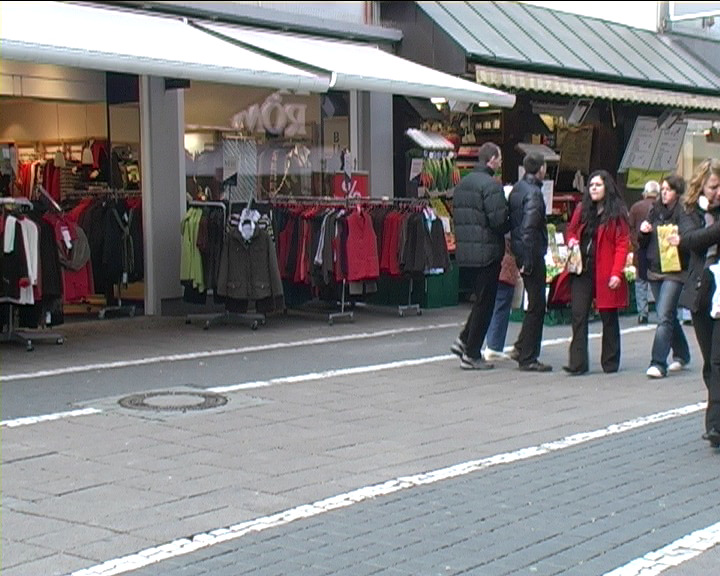undeflect: (578, 169, 629, 244)
